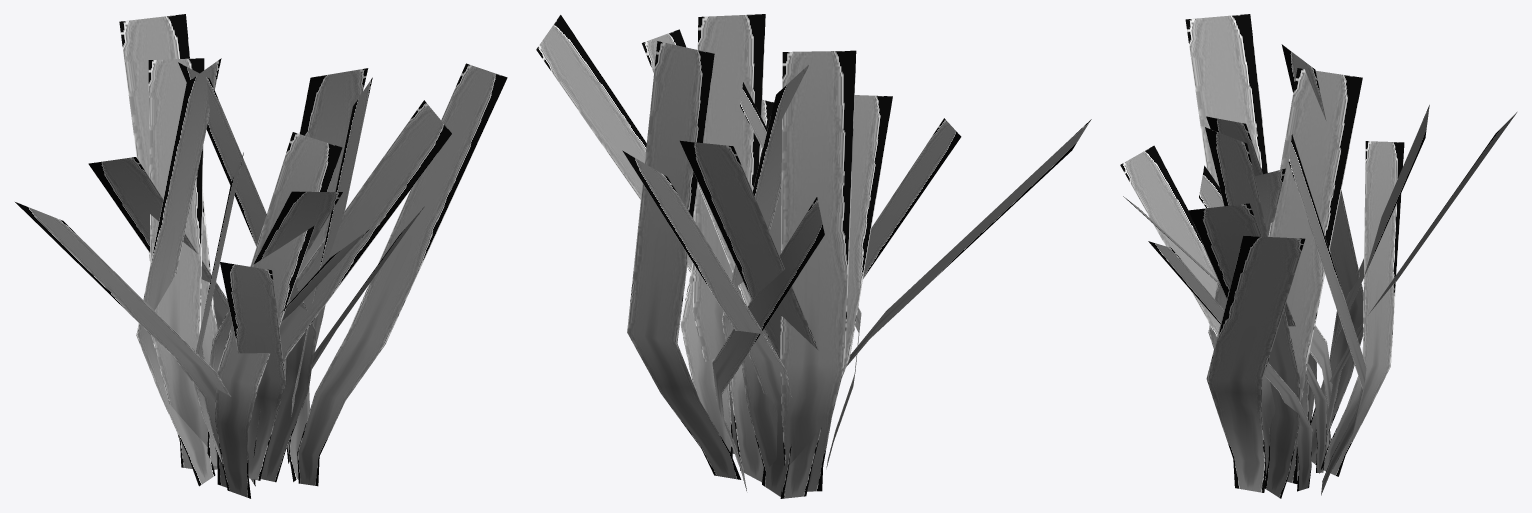
Rendered from MushroomGrass.fbx.
3 views of the same model, side by side, from view 1: azimuth 30°, elevation 25°; view 2: azimuth 150°, elevation 25°; view 3: azimuth 270°, elevation 25° (orthographic). The views are drawn at different scales.
Visible parts, largest first — view 1: Plane.032; view 2: Plane.032; view 3: Plane.032.
Boxes of the visible parts, bbox=[...] form: Plane.032: bbox=[15, 14, 507, 498]; Plane.032: bbox=[536, 14, 1091, 498]; Plane.032: bbox=[1120, 14, 1516, 498].
Size of the model in its own units: 37.36 by 30.72 by 27.47.
Materials: 1 (1 with a texture image).
